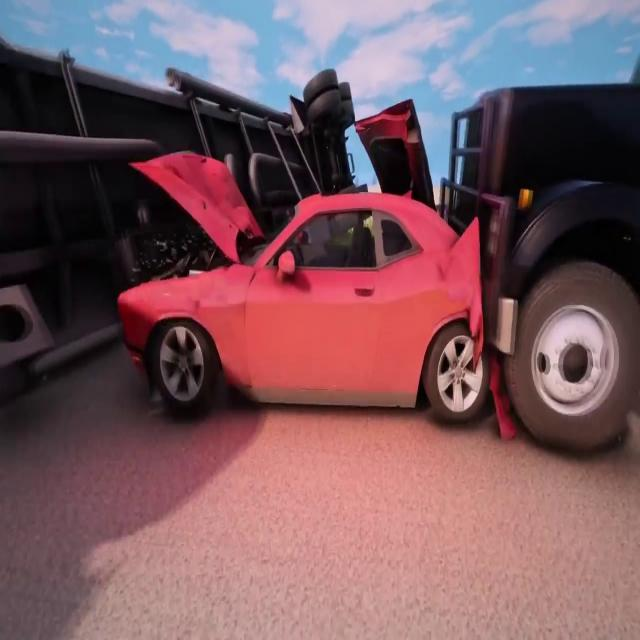accident: (74, 71, 628, 448)
